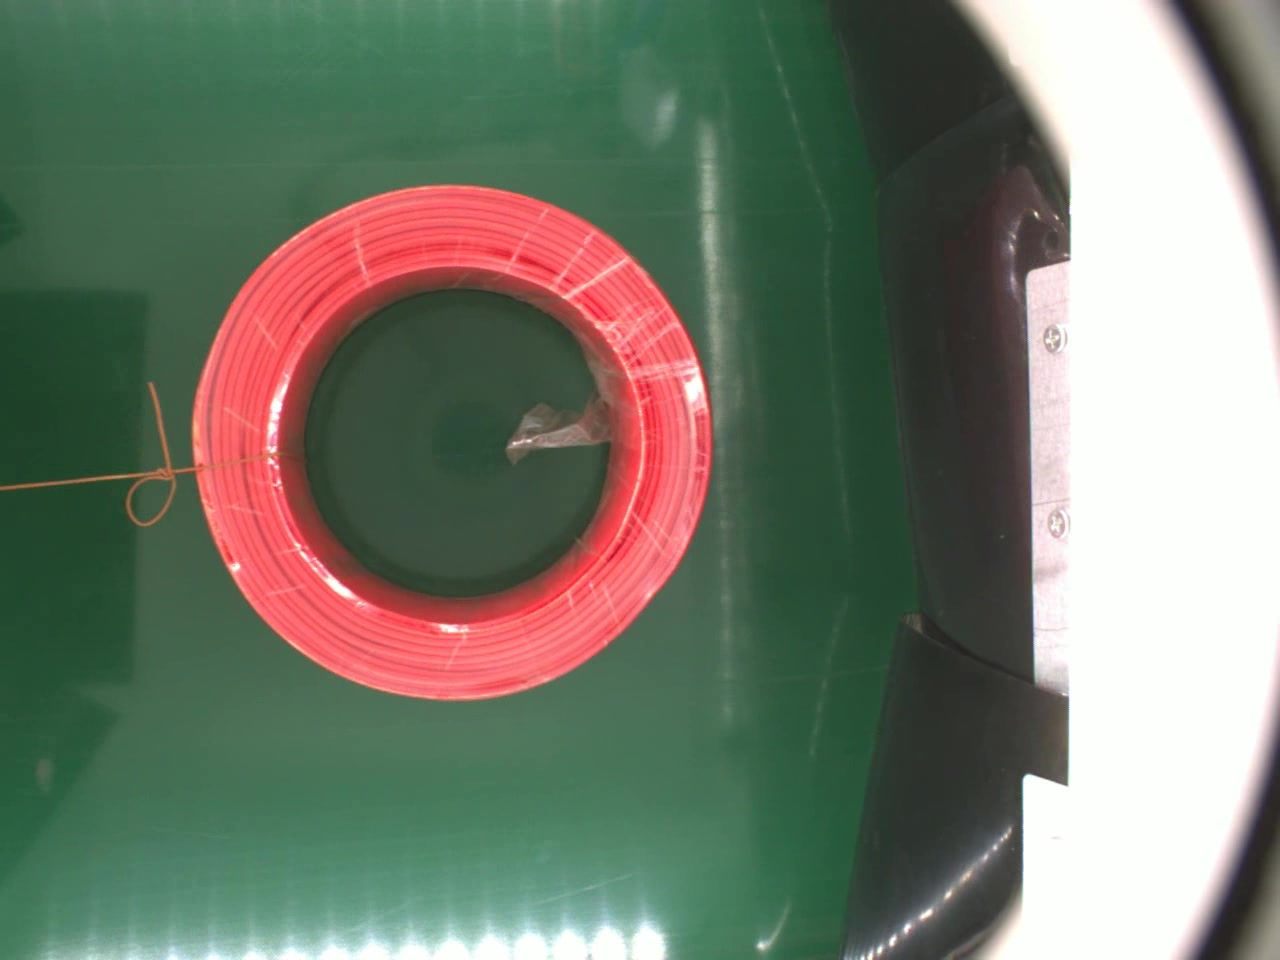red: (185, 175, 729, 704)
